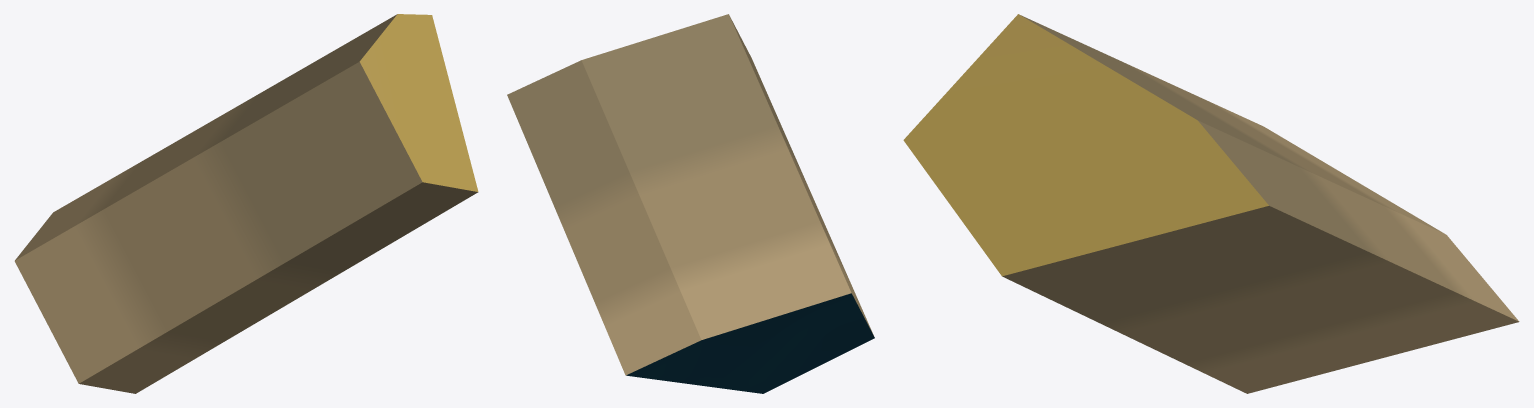
Rendered from 0616_Qatar.glb.
3 views of the same model, side by side, from view 1: azimuth 30°, elevation 25°; view 2: azimuth 150°, elevation 25°; view 3: azimuth 270°, elevation 25° (orthographic). The views are drawn at different scales.
Parts seen in each view (by area): view 1: part_0; view 2: part_0; view 3: part_0.
Part boxes in pixels (x1,y1,x2,y2): part_0: [14, 14, 478, 393]; part_0: [507, 14, 874, 393]; part_0: [903, 14, 1519, 393].
Size of the model in its own units: 0.2327 by 0.194 by 0.2346.
1 material, 1 textured.
